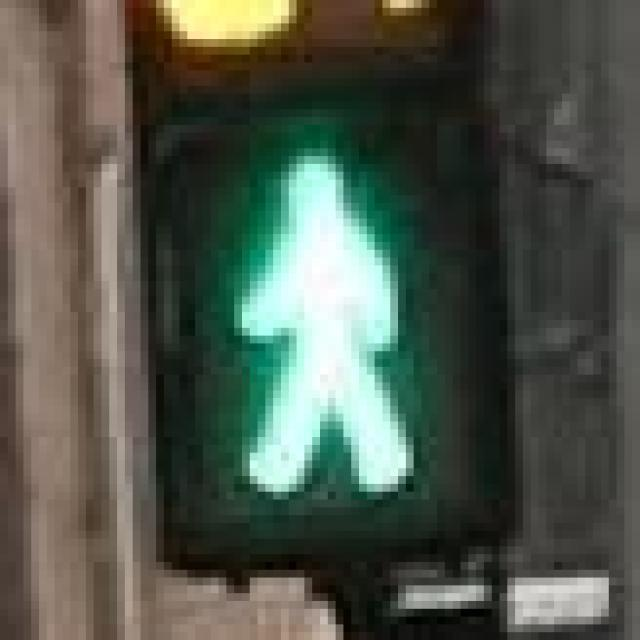geen-crossing: (140, 101, 492, 531)
